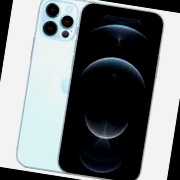samsung: (11, 59, 100, 168), (101, 38, 175, 133)
